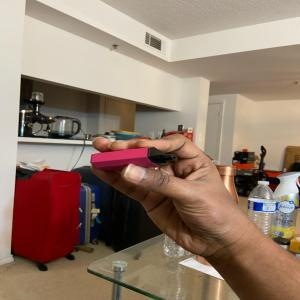Blume-E-Ciggirate: (87, 145, 182, 172)
